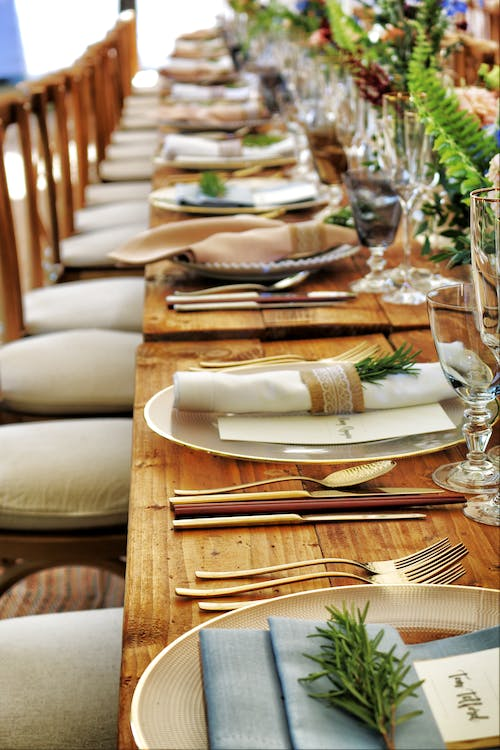knife: (166, 483, 449, 509), (163, 285, 366, 308)
